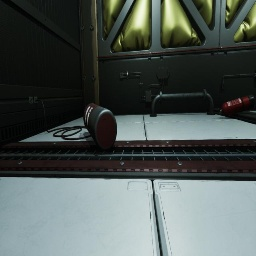FireExtinguisher ]: (217, 94, 255, 116)
NitrogenTank ,: (83, 103, 117, 151)
